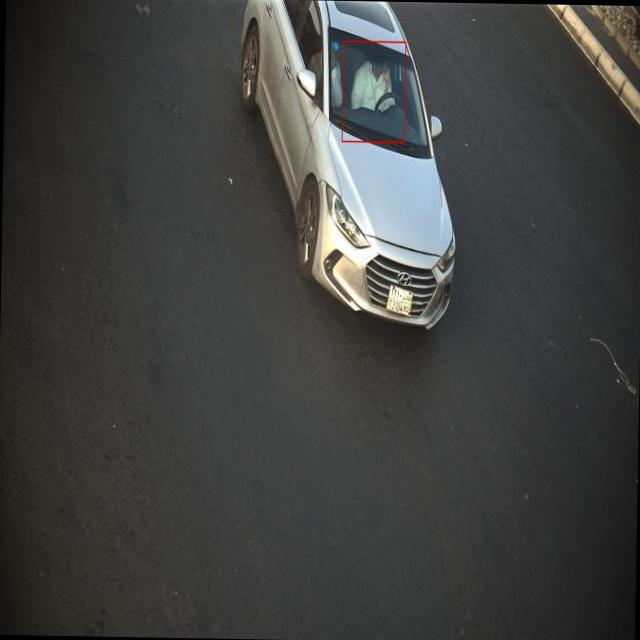person_without_seatbelt: (348, 43, 414, 126)
